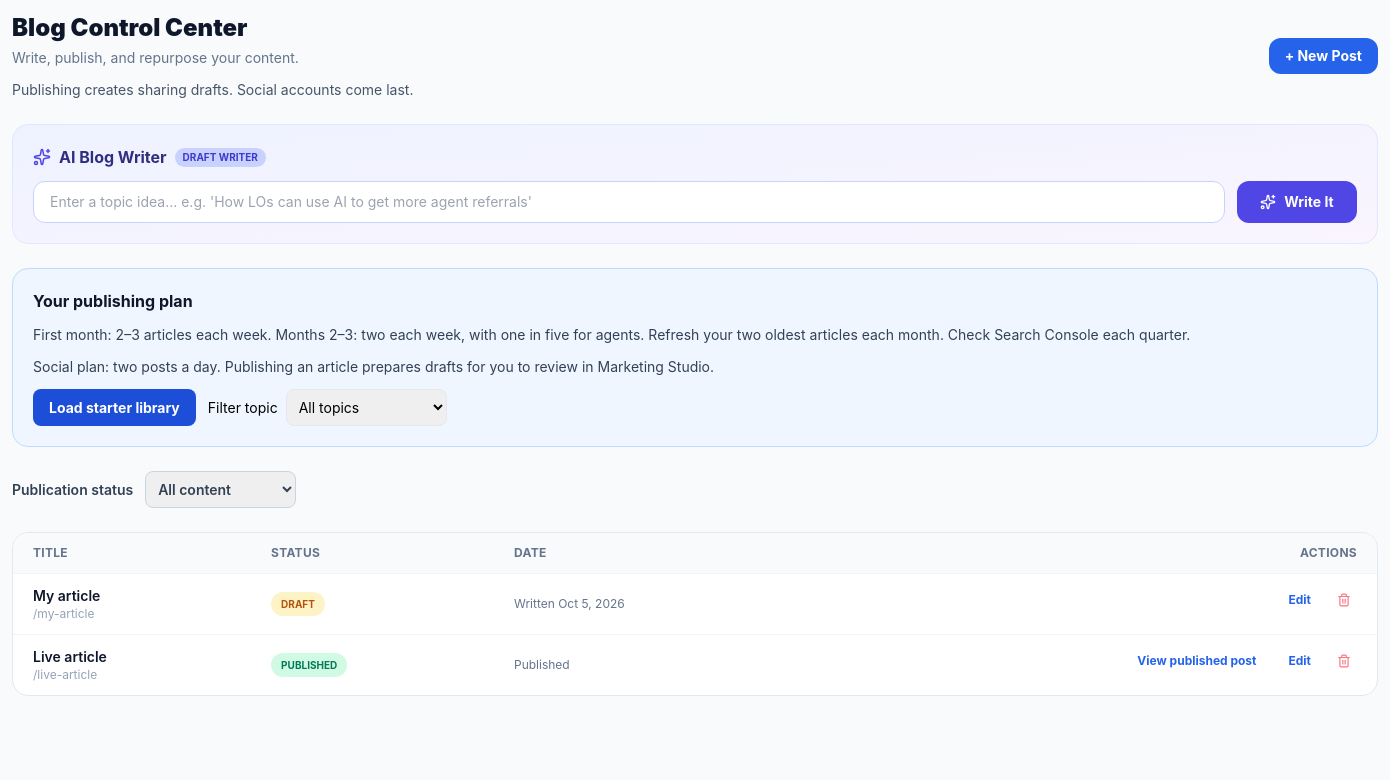
Scenario: publication filter separates published articles from drafts and links to the live article
Expected: the text "Live article" is shown, x1=33 y1=648 x2=107 y2=665
Select "Published" in the dropdown labelled "Publication status": (221, 490) x1=145 y1=471 x2=296 y2=508
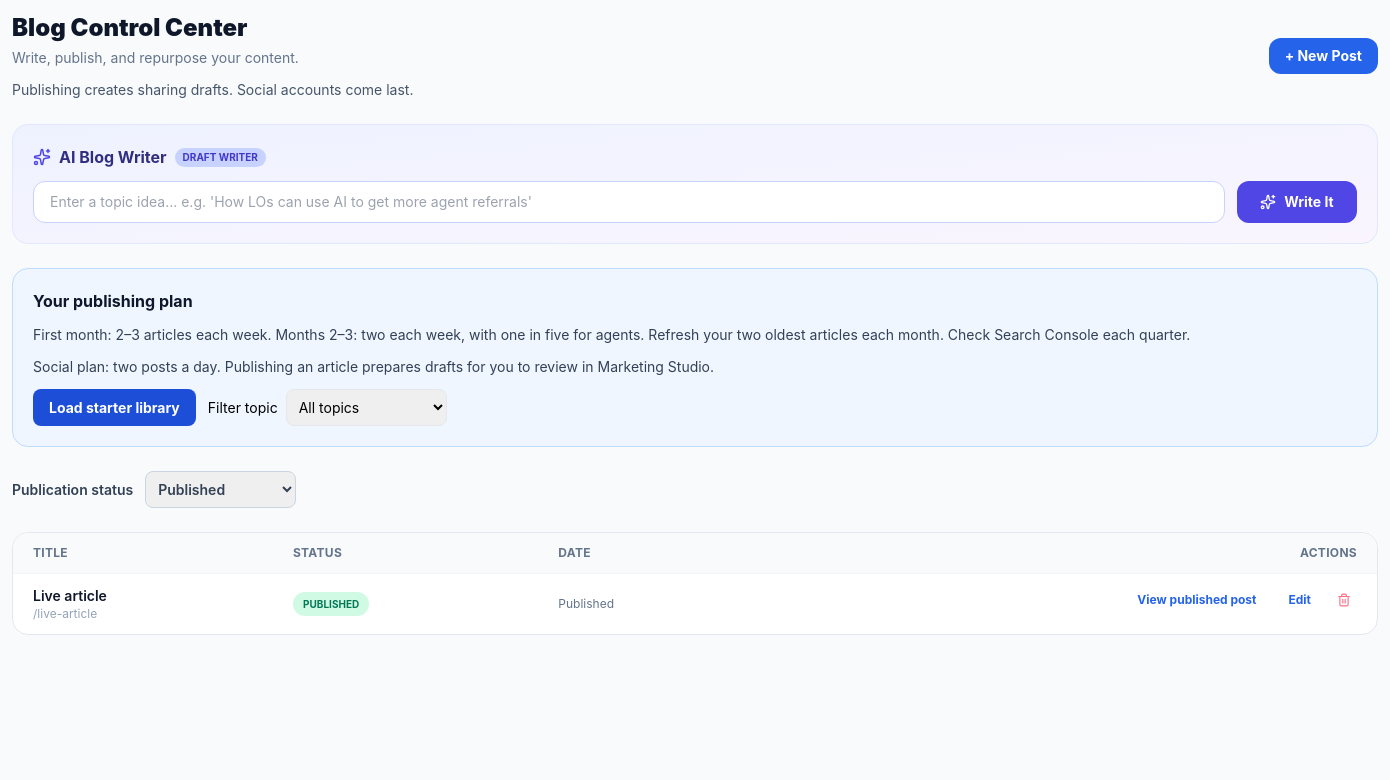
Expected: the text "My article" is gone
Select "Drafts and briefs" in the dropdown labelled "Publication status": (221, 490) x1=145 y1=471 x2=296 y2=508
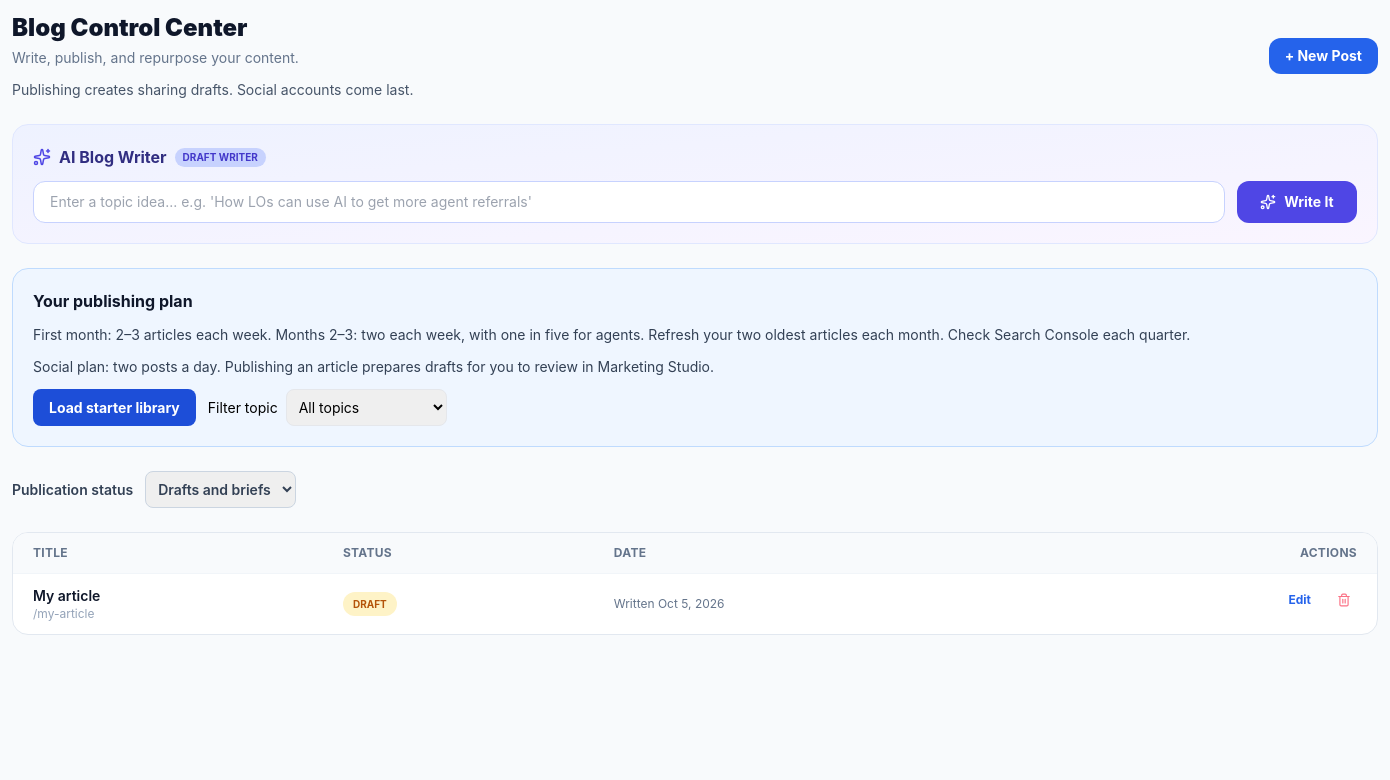
Expected: the text "My article" is shown, x1=33 y1=587 x2=100 y2=604
Expected: the text "Live article" is gone
